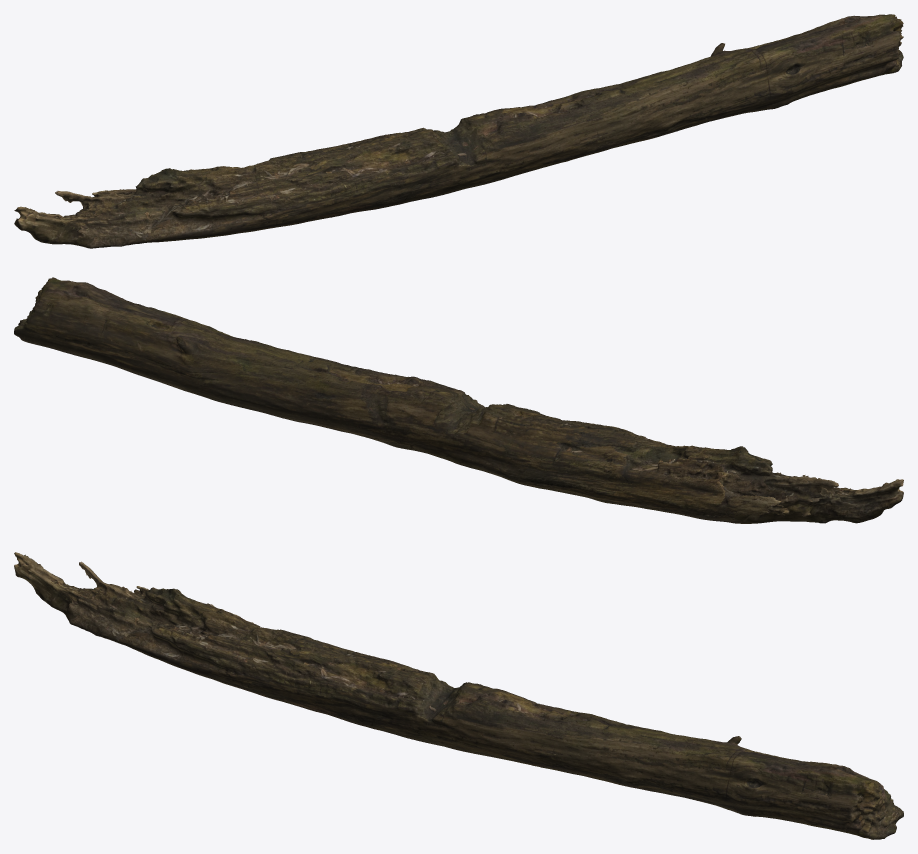
Rendered from dead_tree_trunk.glb.
The picture shows the model from 3 angles, top to bottom: view 1: azimuth 30°, elevation 25°; view 2: azimuth 150°, elevation 25°; view 3: azimuth 330°, elevation 25°; orthographic projection.
Parts seen in each view (by area): view 1: dead_tree_trunk; view 2: dead_tree_trunk; view 3: dead_tree_trunk.
Part boxes in pixels (x1,y1,x2,y2): dead_tree_trunk: (14, 14, 903, 248); dead_tree_trunk: (14, 277, 903, 523); dead_tree_trunk: (14, 552, 903, 839).
Bounding box in the file's own units: 3.05 × 0.2904 × 0.2775.
Materials: 1 (1 with a texture image).
